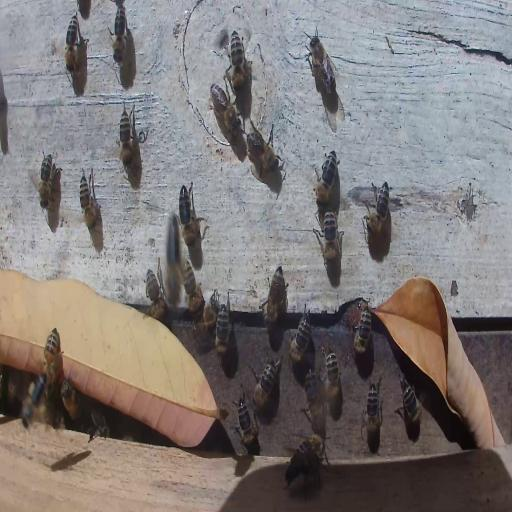bee: (163, 208, 188, 308), (307, 34, 337, 100), (302, 366, 328, 437), (178, 181, 206, 245), (285, 447, 321, 493), (312, 148, 340, 206), (248, 125, 279, 177), (210, 87, 241, 138), (365, 178, 391, 238), (344, 299, 374, 350), (143, 266, 168, 326), (263, 266, 285, 334), (78, 165, 100, 233), (22, 373, 48, 429), (288, 304, 312, 364), (234, 398, 259, 454), (318, 210, 343, 264), (228, 32, 249, 94), (398, 378, 422, 432), (251, 362, 278, 408), (324, 346, 342, 414), (364, 376, 383, 440), (192, 297, 220, 340), (183, 255, 202, 315), (118, 106, 136, 168), (294, 432, 328, 463), (215, 307, 233, 364), (112, 3, 126, 66), (44, 327, 60, 381), (65, 13, 78, 74), (62, 377, 79, 423), (39, 152, 52, 209), (87, 412, 109, 440)
